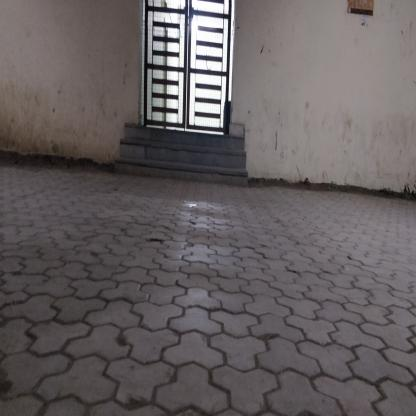stairs: (126, 127, 239, 187)
